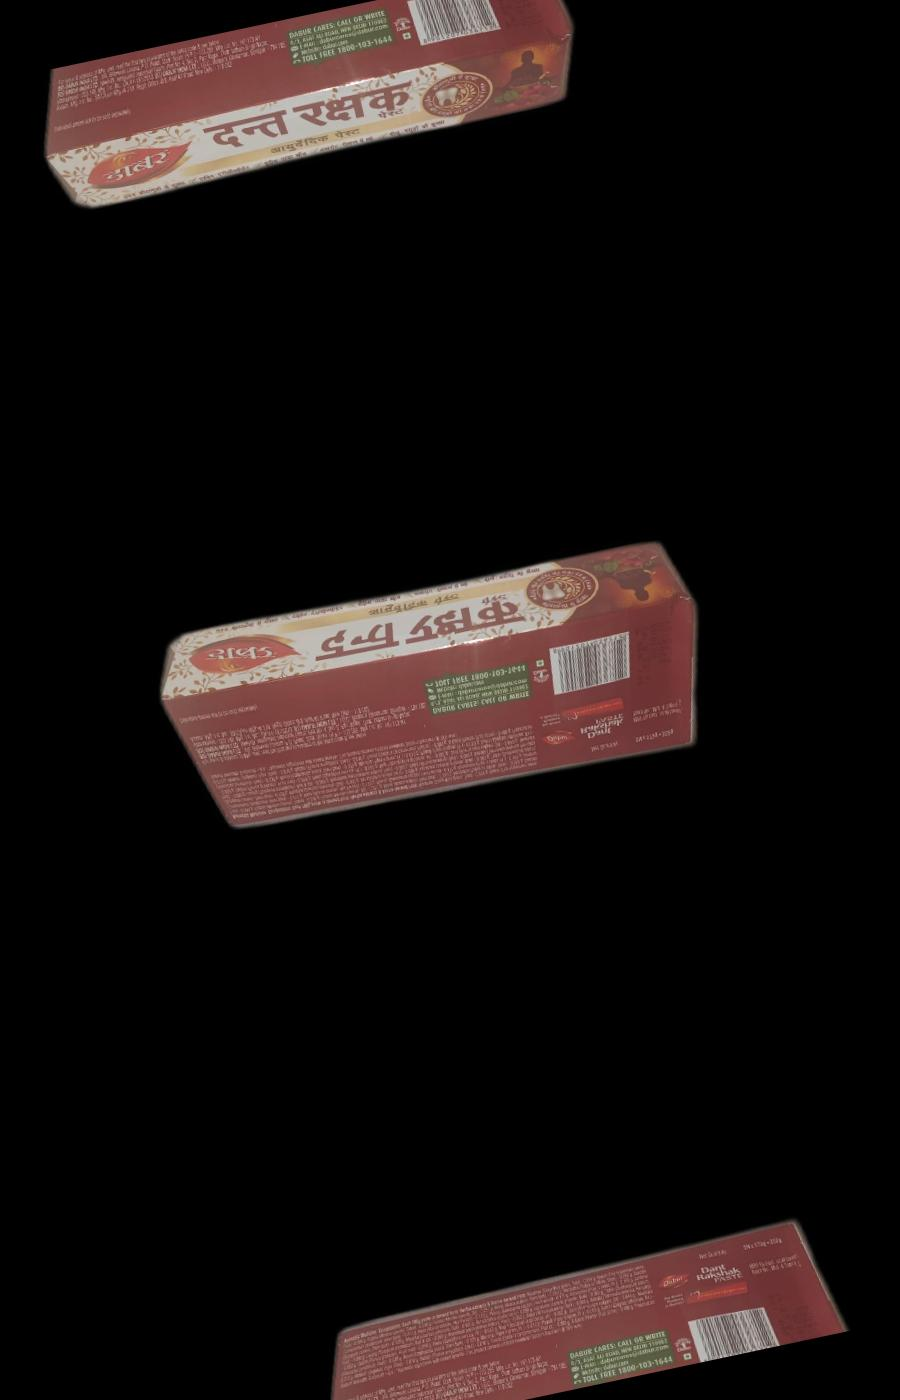Dabur Dant Rakshak Ayurvedic Paste 175 g -Pack of 2-: (145, 527, 734, 863), (26, 0, 597, 218), (288, 1202, 857, 1400)
